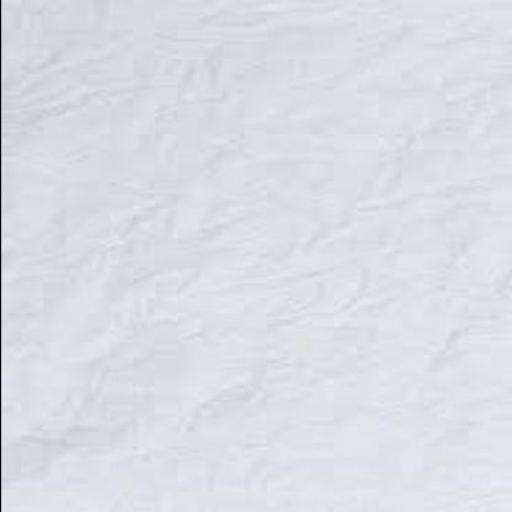paper: (2, 0, 511, 512)
